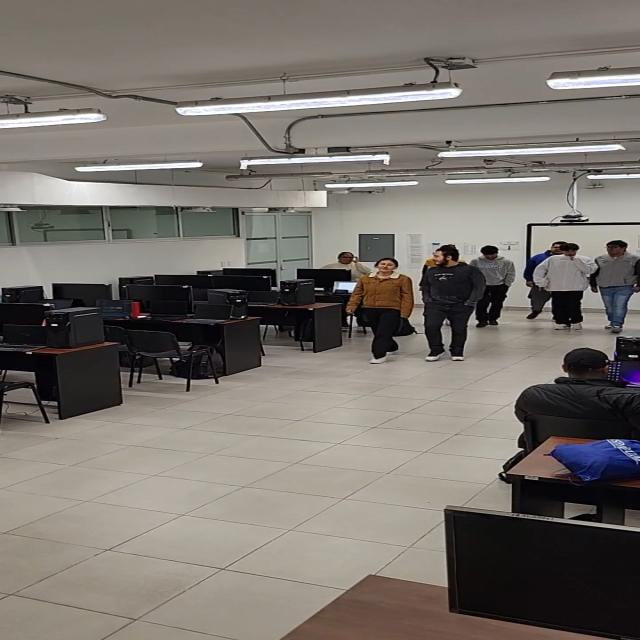Persona: (345, 254, 414, 365), (420, 245, 480, 362), (540, 242, 589, 331), (595, 239, 640, 335), (473, 245, 511, 328)
